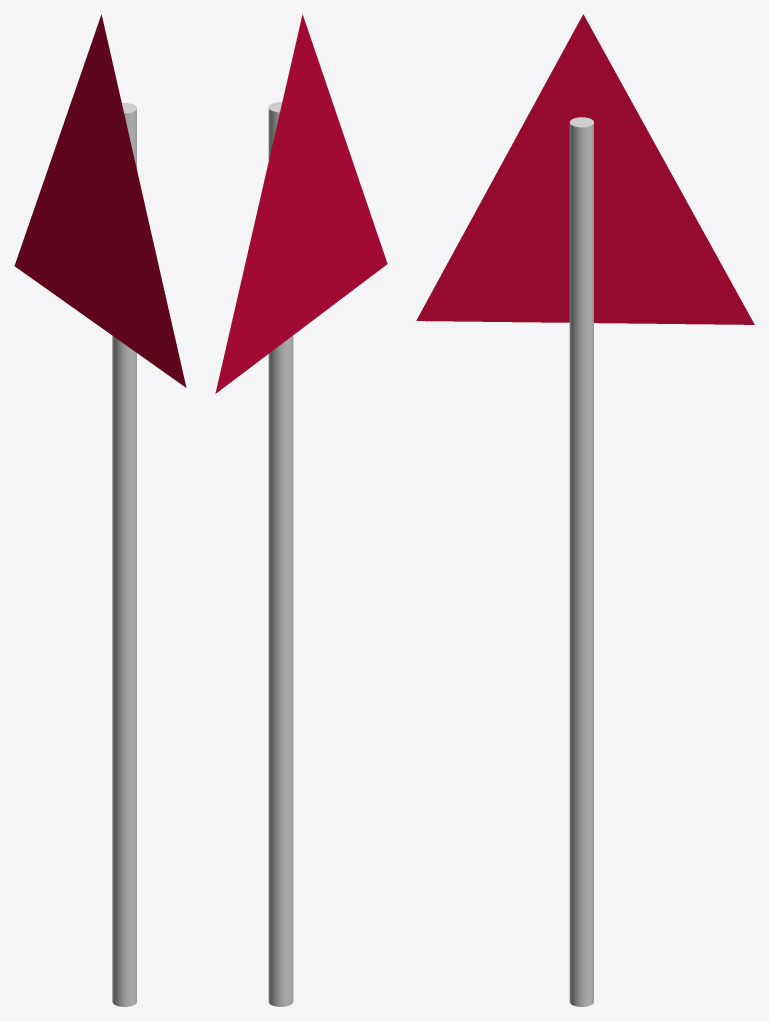
Rendered from table.fbx.
The picture shows the model from 3 angles, left to right: view 1: azimuth 30°, elevation 25°; view 2: azimuth 150°, elevation 25°; view 3: azimuth 270°, elevation 25°; orthographic projection.
Visible parts, largest first — view 1: Cylinder; view 2: Cylinder; view 3: Cylinder.
Boxes of the visible parts, left/top/right/bottom form: Cylinder: left=14, top=14, right=186, bottom=1006; Cylinder: left=215, top=14, right=387, bottom=1006; Cylinder: left=416, top=14, right=754, bottom=1006.
Bounding box in the file's own units: 31 × 889 × 279.
